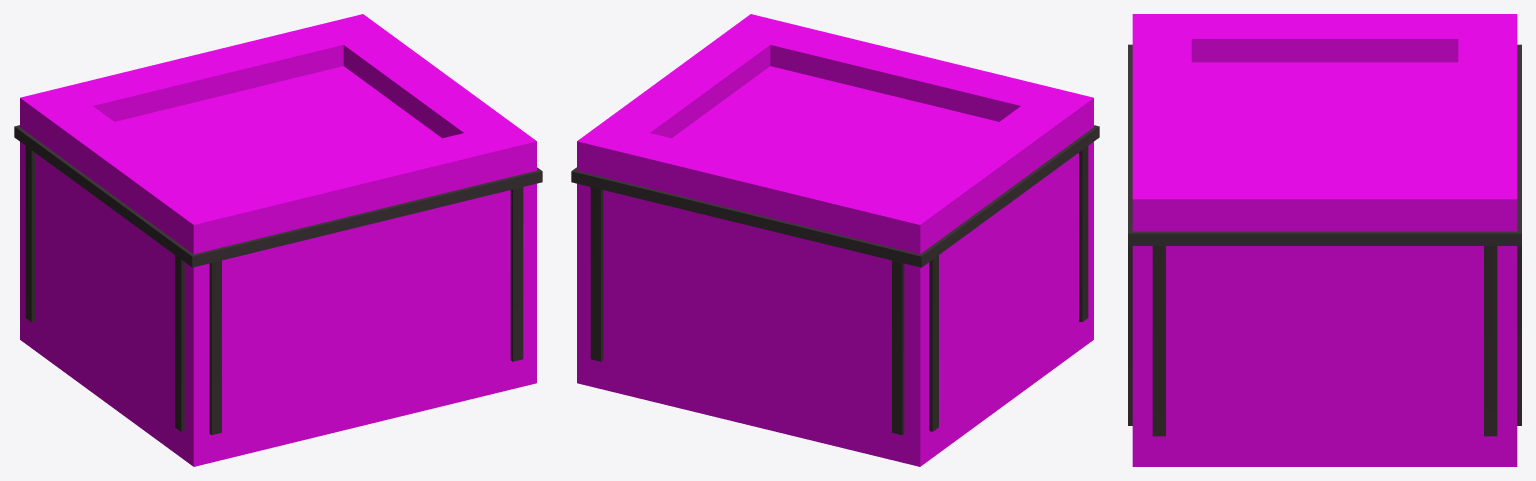
File: interior-station.glb
3 renders of one model, left to right at view 1: azimuth 30°, elevation 25°; view 2: azimuth 150°, elevation 25°; view 3: azimuth 270°, elevation 25°, orthographic. The views are drawn at different scales.
Visible parts, largest first — view 1: Col_wall_front, Col_ceiling, Col_wall_left, Col_wall_back, Col_wall_right, Interior station Plaster; view 2: Col_wall_back, Col_ceiling, Col_wall_left, Col_wall_front, Col_wall_right, Interior station Plaster; view 3: Col_wall_right, Col_ceiling, Col_wall_front, Col_wall_back, Col_wall_left, Interior station Plaster.
Boxes of the visible parts, box(x1,y1,x2,y2) form: Col_wall_front: box(167, 122, 536, 466); Col_ceiling: box(20, 66, 536, 304); Col_wall_left: box(36, 87, 239, 466); Col_wall_back: box(20, 14, 389, 358); Col_wall_right: box(321, 14, 536, 394); Interior station Plaster: box(14, 125, 542, 435); Col_wall_back: box(577, 122, 946, 466); Col_ceiling: box(577, 66, 1093, 304); Col_wall_left: box(874, 89, 1076, 466); Col_wall_front: box(724, 14, 1093, 358); Col_wall_right: box(577, 15, 794, 394); Interior station Plaster: box(571, 125, 1099, 435); Col_wall_right: box(1132, 174, 1517, 466); Col_ceiling: box(1132, 62, 1517, 287); Col_wall_front: box(1132, 14, 1191, 466); Col_wall_back: box(1458, 14, 1517, 466); Col_wall_left: box(1132, 14, 1517, 62); Interior station Plaster: box(1128, 44, 1521, 436).
Size of the model in its own units: 10 by 6.6 by 8.8.
